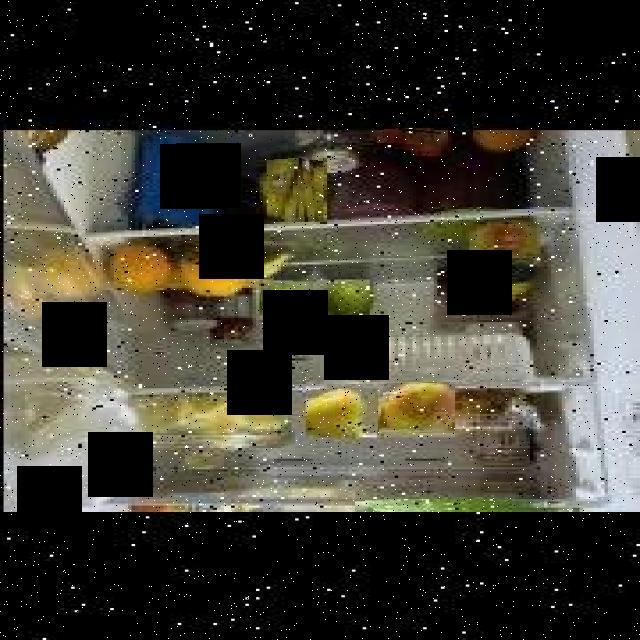apple: (378, 382, 450, 435), (306, 388, 380, 435), (316, 277, 370, 320), (259, 277, 313, 320)
banana: (292, 153, 324, 222), (267, 158, 302, 220)
cucumber: (356, 499, 566, 512), (370, 506, 576, 512)
tomato: (398, 128, 441, 156), (377, 128, 434, 141)
